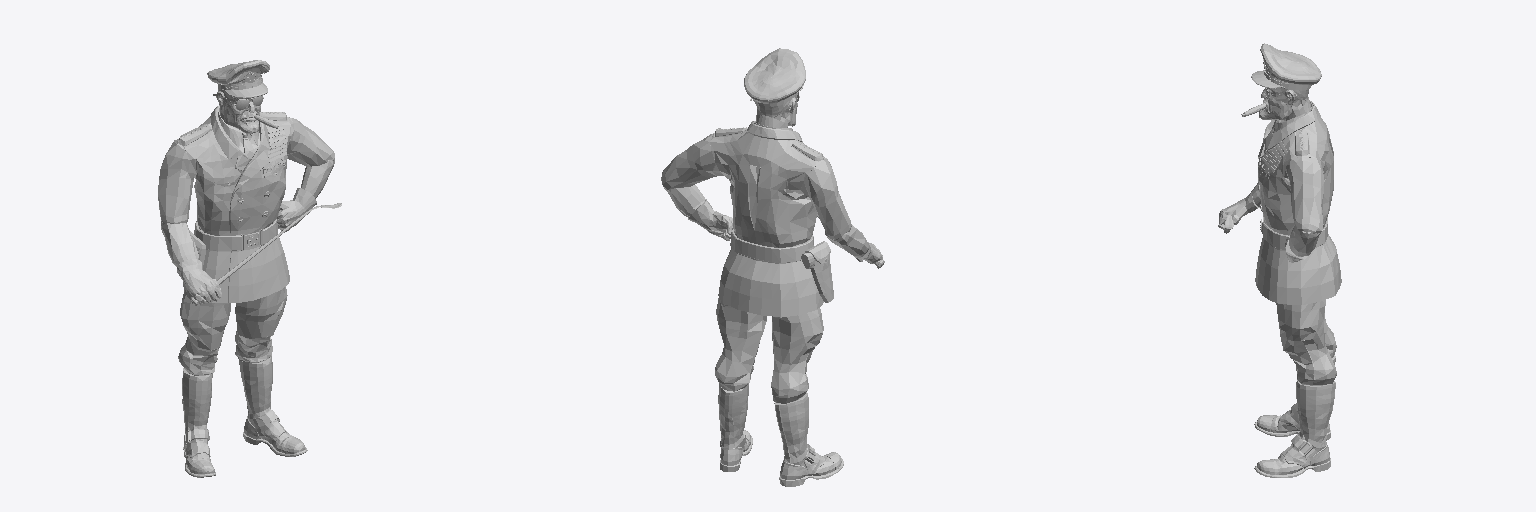
The model's file is general.obj.
3 renders of one model, left to right at view 1: azimuth 30°, elevation 25°; view 2: azimuth 150°, elevation 25°; view 3: azimuth 270°, elevation 25°, orthographic.
Visible parts, largest first — view 1: coat, lboot, rboot, uparm_r, rthigh, lthigh, uparml, rfist2, forarm_r, facial, hat, rcalf (+5 smaller); view 2: coat, rboot, hat, lboot, rthigh, uparm_r, uparml, lthigh, rcalf, lcalf, belt, holster (+4 smaller); view 3: coat, lboot, uparml, lthigh, hat, lcalf, facial, rboot, rfist2, lowarml.
Boxes of the visible parts, x1,y1,x2,y2 form: coat: [174, 105, 291, 302]; lboot: [238, 356, 307, 456]; rboot: [182, 368, 215, 477]; uparm_r: [158, 142, 196, 224]; rthigh: [180, 292, 230, 349]; lthigh: [235, 287, 287, 338]; uparml: [287, 117, 334, 166]; rfist2: [177, 259, 221, 303]; forarm_r: [161, 221, 198, 266]; facial: [216, 91, 260, 133]; hat: [207, 60, 269, 90]; rcalf: [178, 337, 218, 375]; coat: [710, 121, 826, 317]; rboot: [774, 392, 843, 486]; hat: [744, 48, 805, 106]; lboot: [718, 384, 752, 471]; rthigh: [772, 308, 823, 364]; uparm_r: [801, 159, 851, 239]; uparml: [661, 133, 723, 189]; lthigh: [716, 298, 766, 356]; rcalf: [771, 359, 809, 403]; lcalf: [715, 346, 754, 391]; belt: [730, 228, 813, 262]; holster: [805, 241, 833, 302]; coat: [1255, 101, 1341, 304]; lboot: [1254, 380, 1335, 477]; uparml: [1285, 157, 1323, 233]; lthigh: [1276, 300, 1325, 352]; hat: [1260, 43, 1321, 89]; lcalf: [1283, 344, 1336, 385]; facial: [1259, 88, 1310, 120]; rboot: [1254, 355, 1335, 440]; rfist2: [1218, 191, 1259, 233]; lowarml: [1289, 225, 1319, 256].
Bounding box in the file's own units: 34.36 × 72.58 × 20.02.